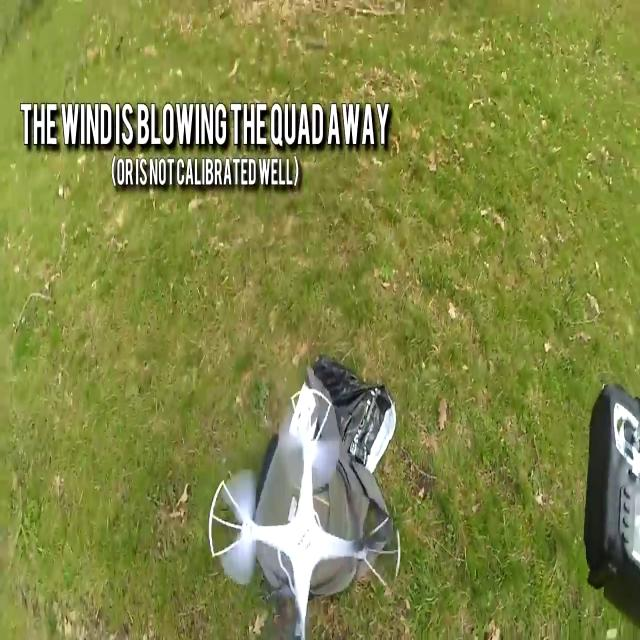drones: (209, 373, 406, 640)
